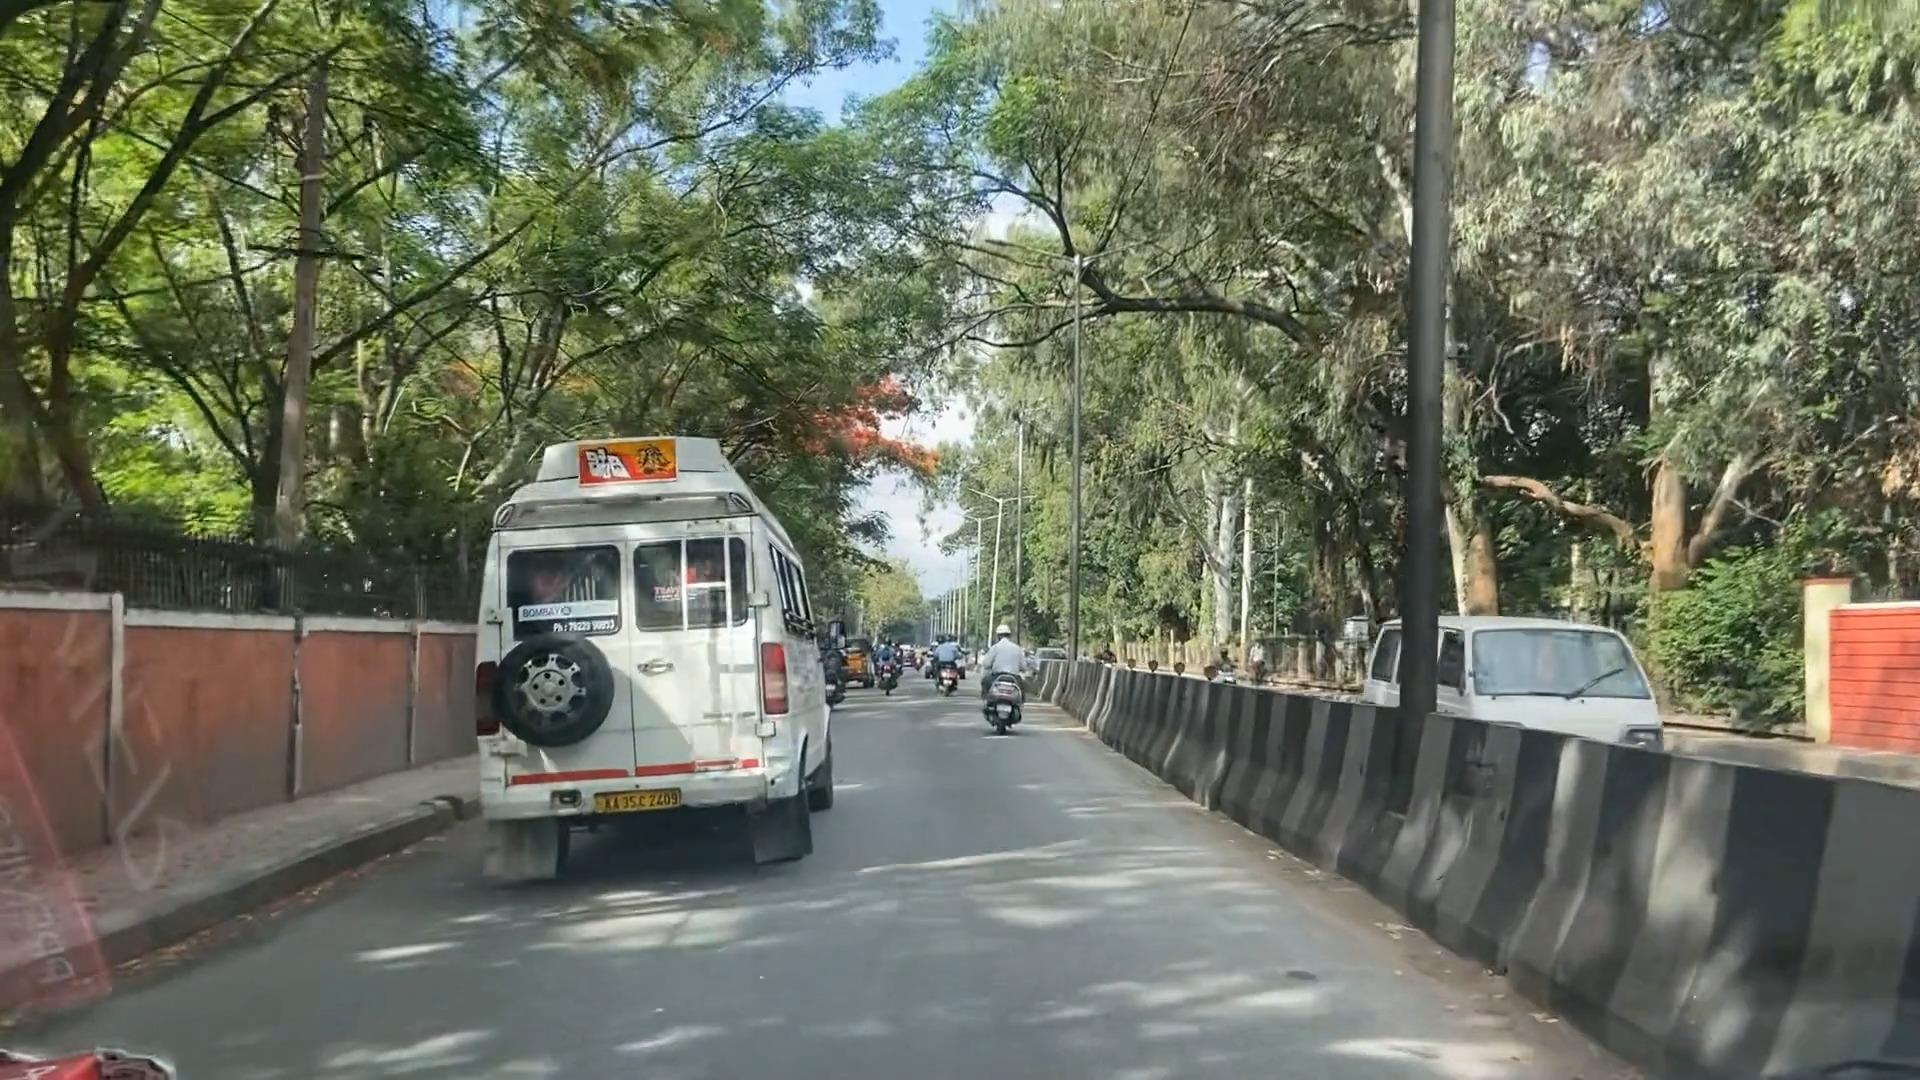HMV: (479, 442, 790, 872)
LMV: (988, 628, 1026, 732), (934, 622, 963, 698)
